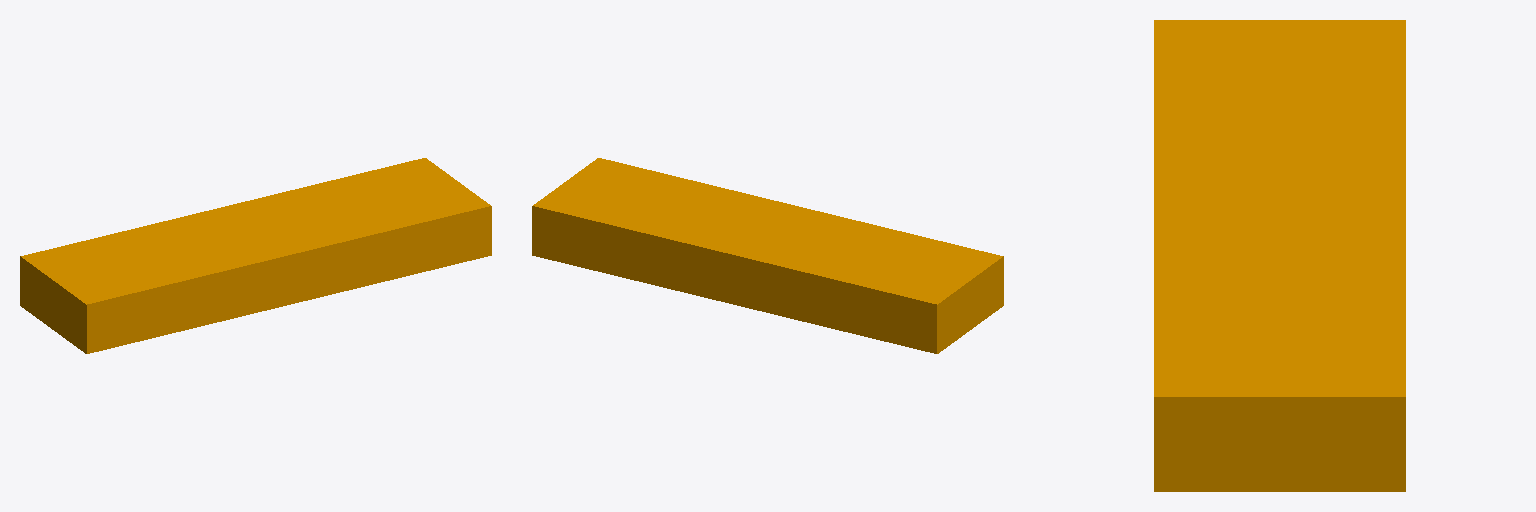
The robot description file, URDF, robot "pendulum_arm":
<?xml version="1.0"?>
<!--
  Pendulum arm — Fusion 360 physical properties (2026-10-08), density set to match
  the printed/real part.

  Fusion world origin is on the servo rotation axis (Z). Inertial data from the
  "Physical" and "Moment of Inertia at Center of Mass" panels, converted to SI:
    mass     = 31.733 g
    CoM      = (-62.88, -18.364, ~0) mm  ->  (-0.06288, -0.018364, 0.0) m
    Ixx CoM  = 4681.892  g mm^2  ->  4.681892e-6 kg m^2
    Iyy CoM  = 83819.118 g mm^2  ->  8.381912e-5 kg m^2
    Izz CoM  = 86452.723 g mm^2  ->  8.645272e-5 kg m^2
    Ixy CoM  = -520.38   g mm^2  ->  -5.2038e-7  kg m^2  (off-diagonal; rig.py handles it)
    Ixz, Iyz ~= 0 (< 0.01 g mm^2)

  Cross-check (parallel axis about Z through origin):
    I_z_origin = Izz_CoM + m*(x^2+y^2) = 8.645e-5 + 0.031733*(0.06288^2 + 0.018364^2)
               = 8.645e-5 + 1.362e-4 = 2.227e-4 kg m^2
    Fusion says 2.226e+05 g mm^2 = 2.226e-4 kg m^2  ✓

  The visual is approximate (bounding box 170.5 x 48.1 mm); rig.py reads only
  <inertial>. The real geometry is complex (holes, servo mounting flanges, etc.)
  but all of that enters dynamics only through the two scalars I and S.
-->
<robot name="pendulum_arm">
  <link name="arm">
    <inertial>
      <origin xyz="-0.06288 -0.018364 0.0" rpy="0 0 0"/>
      <mass value="0.031733"/>
      <inertia ixx="4.681892e-06" ixy="-5.2038e-07" ixz="0.0"
               iyy="8.381912e-05" iyz="0.0"
               izz="8.645272e-05"/>
    </inertial>
    <visual>
      <origin xyz="-0.06288 -0.018364 0.0" rpy="0 0 0"/>
      <geometry>
        <!-- approximate bounding box; real geometry is in Fusion -->
        <box size="0.1705 0.04815 0.020"/>
      </geometry>
    </visual>
    <collision>
      <origin xyz="-0.06288 -0.018364 0.0" rpy="0 0 0"/>
      <geometry>
        <box size="0.1705 0.04815 0.020"/>
      </geometry>
    </collision>
  </link>
</robot>

--- What the picture shows (computed from the rendered views, not written in the file) ---
The picture shows the robot from 3 angles, left to right: view 1: azimuth 30°, elevation 25°; view 2: azimuth 150°, elevation 25°; view 3: azimuth 270°, elevation 25°; orthographic projection.
Robot: pendulum_arm — 1 links, 0 joints (none); root link arm; default pose: all joints at 0.
Links seen in each view (by area): view 1: arm; view 2: arm; view 3: arm.
Link boxes in pixels (left/top/right/bottom): arm: left=20, top=158, right=491, bottom=353; arm: left=532, top=158, right=1003, bottom=353; arm: left=1154, top=20, right=1405, bottom=491.
Size in the robot's own frame: 0.1705 by 0.0481 by 0.02 metres.
Geometry: primitives only (box / cylinder / sphere), no mesh files.
